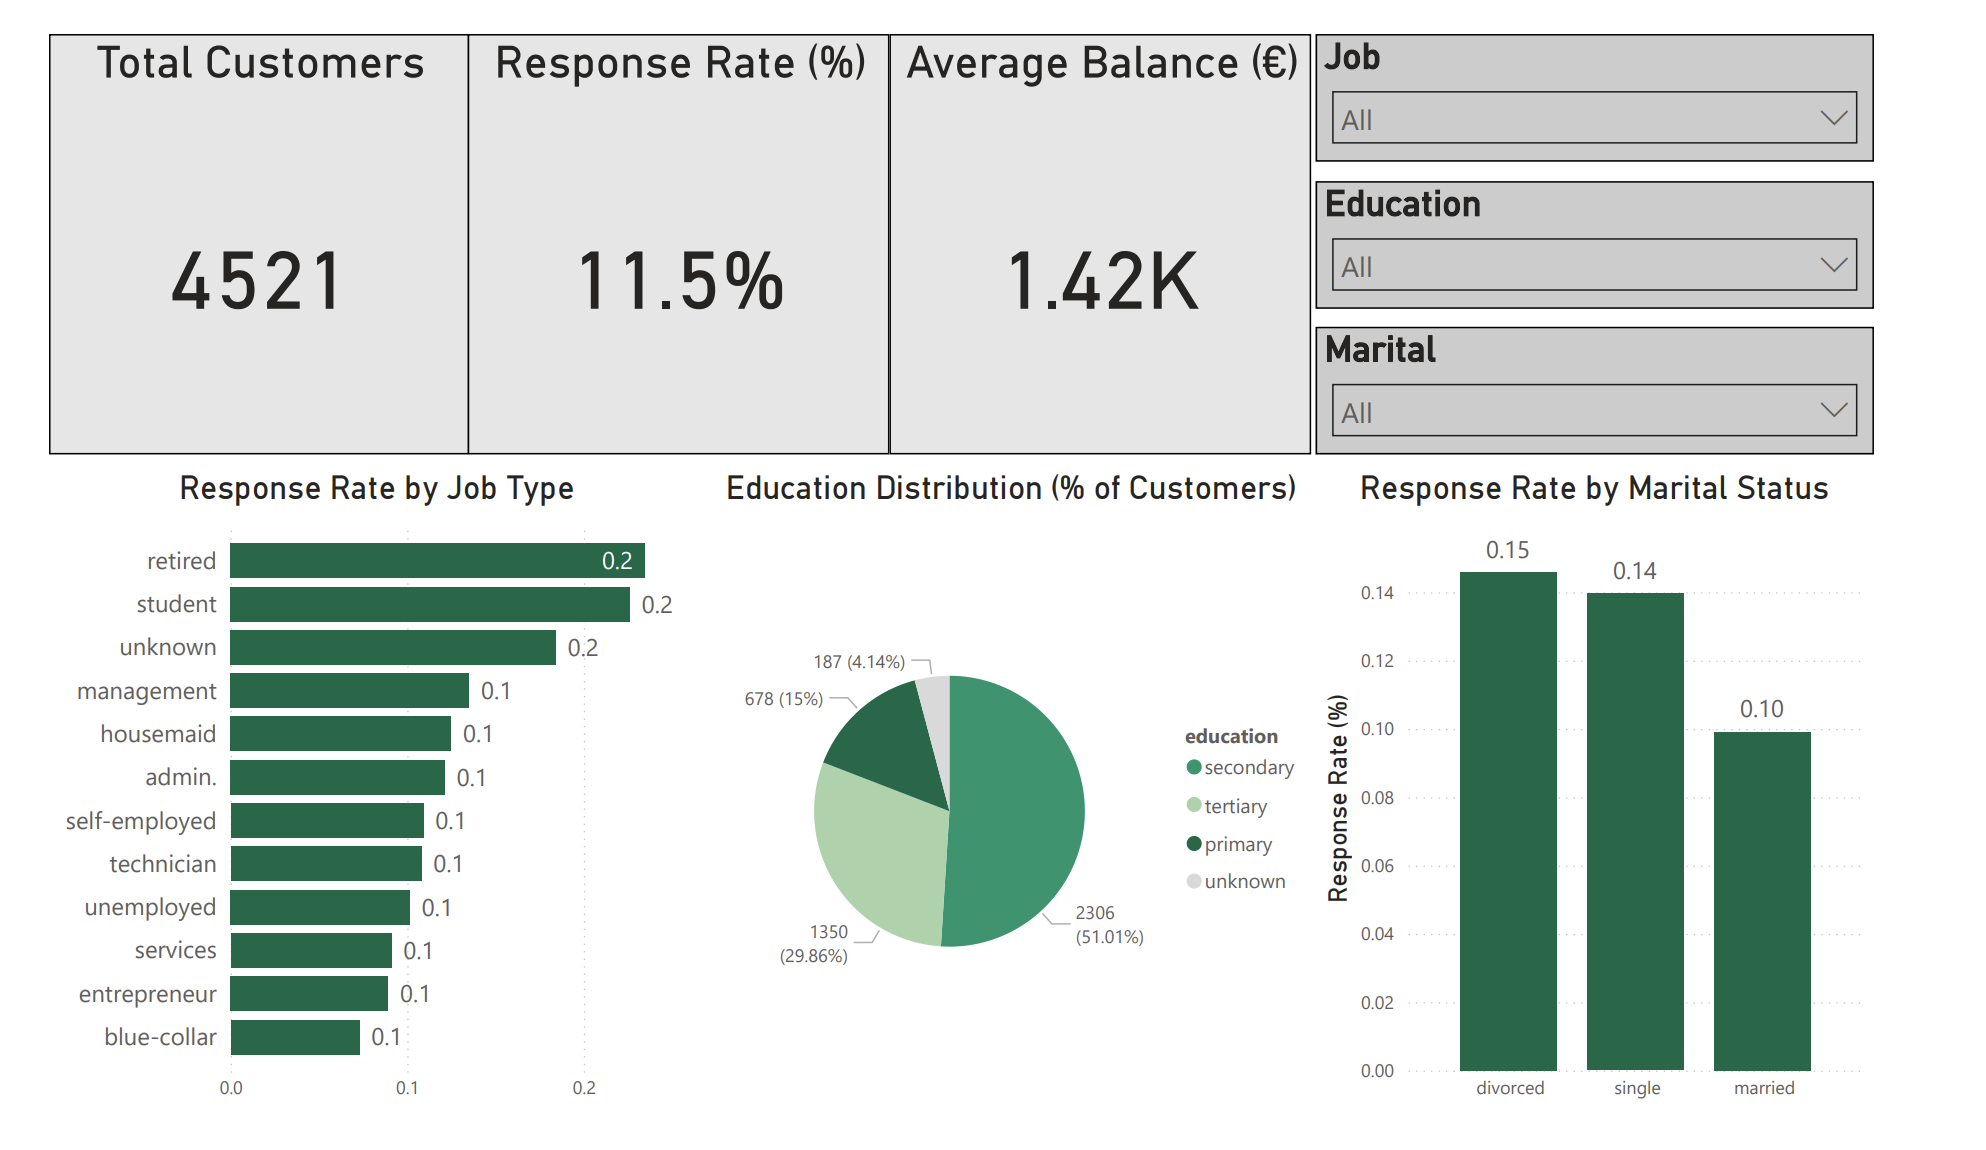

The dashboard page shown, as its layout file describes it:
{"tool":"powerbi","page":{"name":"Page 1","canvas":[1280,720],"ordinal":0},"visuals":[{"type":"card","title":"Total Customers","fields":{"Values":["bank_data.Total Customers"]},"box":[10,0,280,280],"z":0},{"type":"card","title":"Response Rate (%)","fields":{"Values":["bank_data.Response Rate"]},"box":[289.1,0,280.9,279.7],"z":1},{"type":"card","title":"Average Balance (€)","fields":{"Values":["bank_data.Avg Balance"]},"box":[570,0,280.9,279.7],"z":2},{"type":"clusteredBarChart","title":"Response Rate by Job Type","fields":{"Category":["bank_data.job"],"Y":["Avg(bank_data.Subscribed)"]},"box":[9.4,290.3,439,429.6],"z":3},{"type":"pieChart","title":"Education Distribution (% of Customers)","fields":{"Category":["bank_data.education"],"Y":["CountNonNull(bank_data.education)"]},"box":[448.4,290.3,405.9,429.6],"z":4},{"type":"clusteredColumnChart","title":"Response Rate by Marital Status","fields":{"Category":["bank_data.marital"],"Y":["Avg(bank_data.Subscribed)"]},"box":[854.4,290.3,371.7,429.6],"z":5},{"type":"slicer","title":"Job","fields":{"Values":["bank_data.job"]},"box":[854.4,0,371.7,85],"z":6},{"type":"slicer","title":"Education","fields":{"Values":["bank_data.education"]},"box":[854.4,97.9,371.7,85],"z":7},{"type":"slicer","title":"Marital","fields":{"Values":["bank_data.job"]},"box":[854.4,194.7,371.7,85],"z":8}]}

Visuals, with their boxes in screenshot pixels (x1, y1, x2, y2), scaled from the page's 1280x720 canvas onto the 1986x1150 screenshot:
"Total Customers" card: [16,0,450,447]
"Response Rate (%)" card: [449,0,884,447]
"Average Balance (€)" card: [884,0,1320,447]
"Response Rate by Job Type" clusteredBarChart: [15,464,696,1149]
"Education Distribution (% of Customers)" pieChart: [696,464,1325,1149]
"Response Rate by Marital Status" clusteredColumnChart: [1326,464,1902,1149]
"Job" slicer: [1326,0,1902,136]
"Education" slicer: [1326,156,1902,292]
"Marital" slicer: [1326,311,1902,447]
